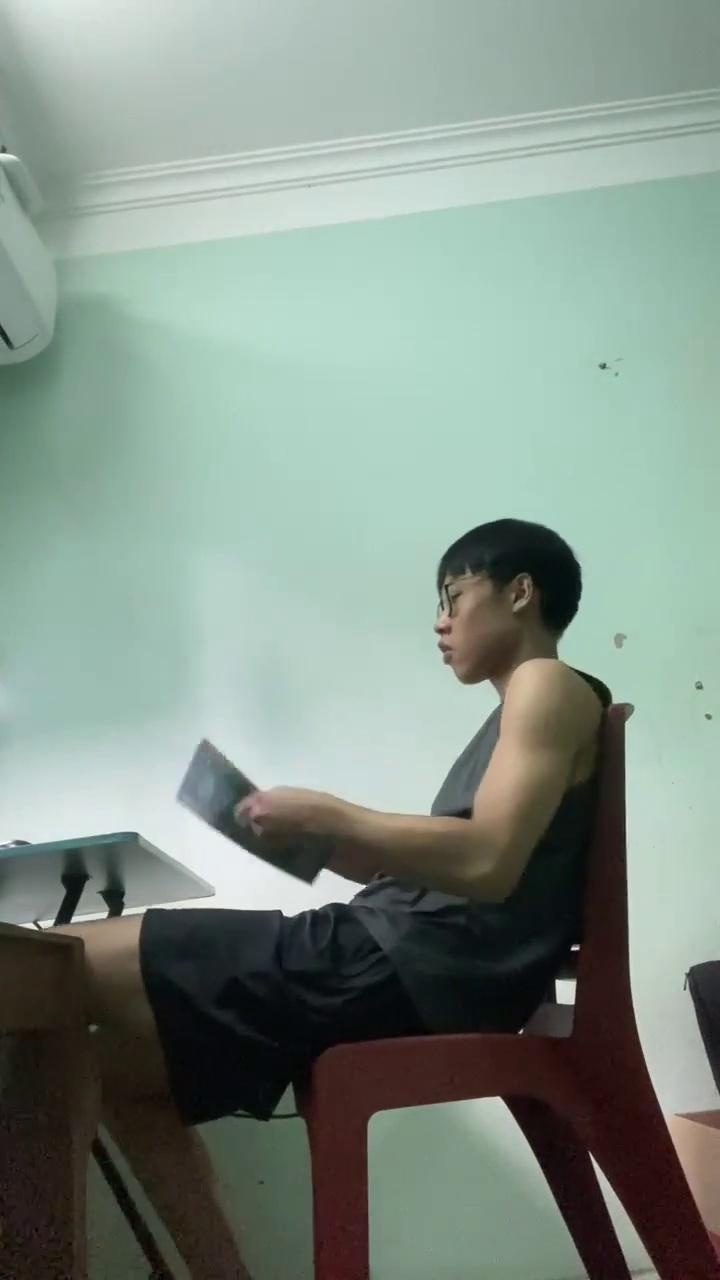BadPosture: (65, 519, 611, 1230)
